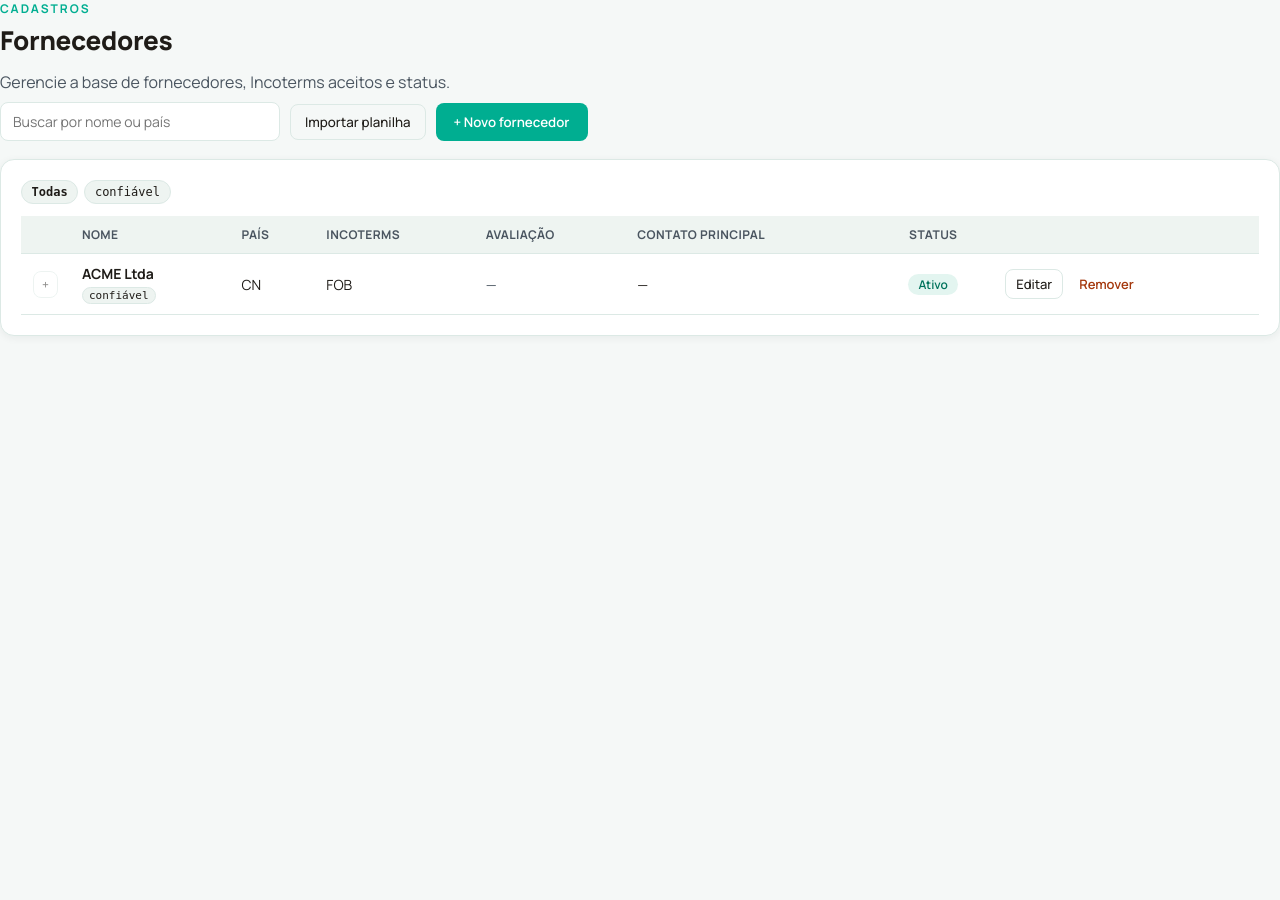
Test: Fornecedores › 13. familias — "Editar" pré-marca os chips vinculados e "Novo fornecedor" abre sem nenhum marcado
The width and height of the screenshot is (1280, 900).
Expected: the text "ACME Ltda" is shown, [82, 264, 154, 283]
Click the button "Editar": (1034,284) [1005, 269, 1063, 299]
(page scrolled)
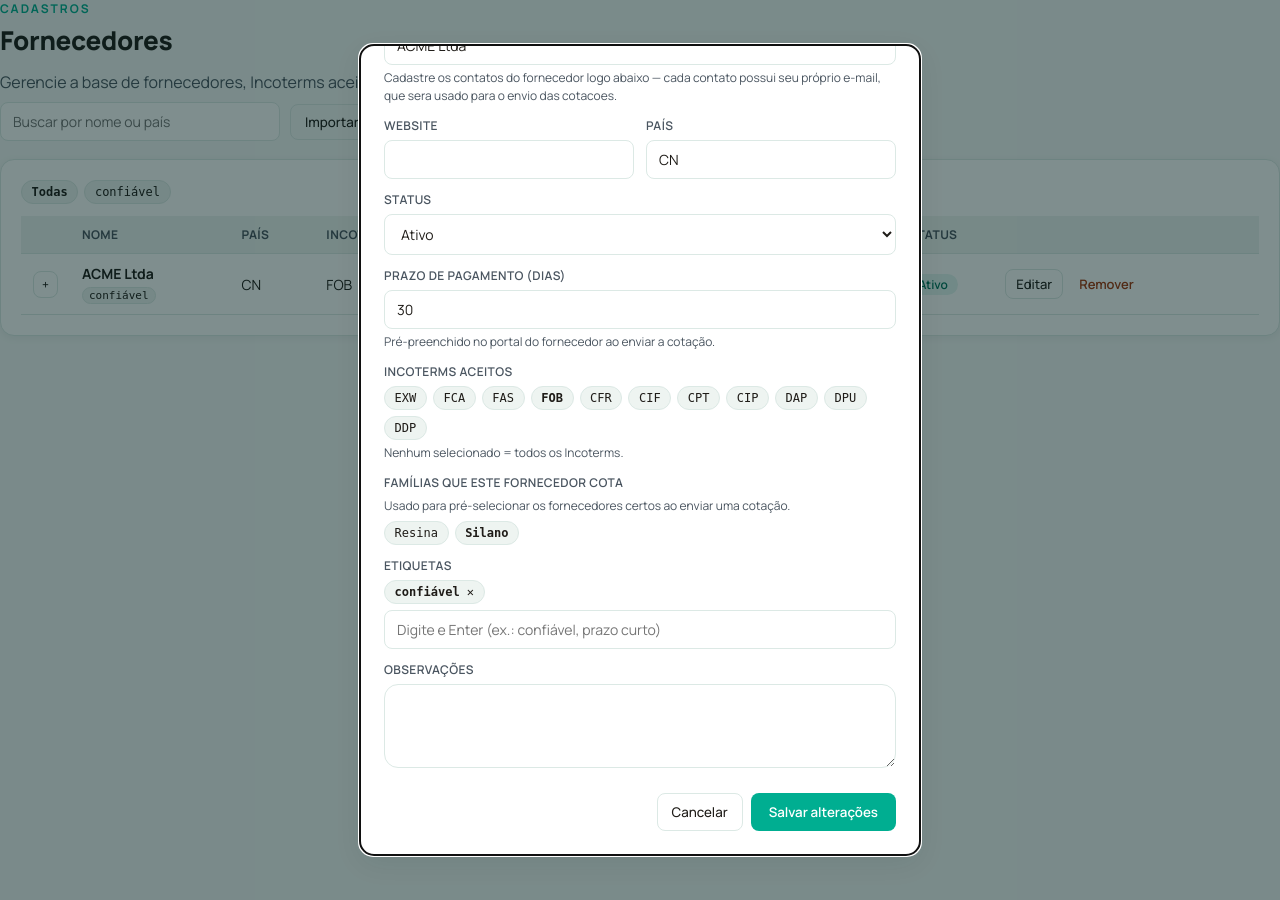
Click the button "Cancelar": (700,812) [656, 793, 743, 831]
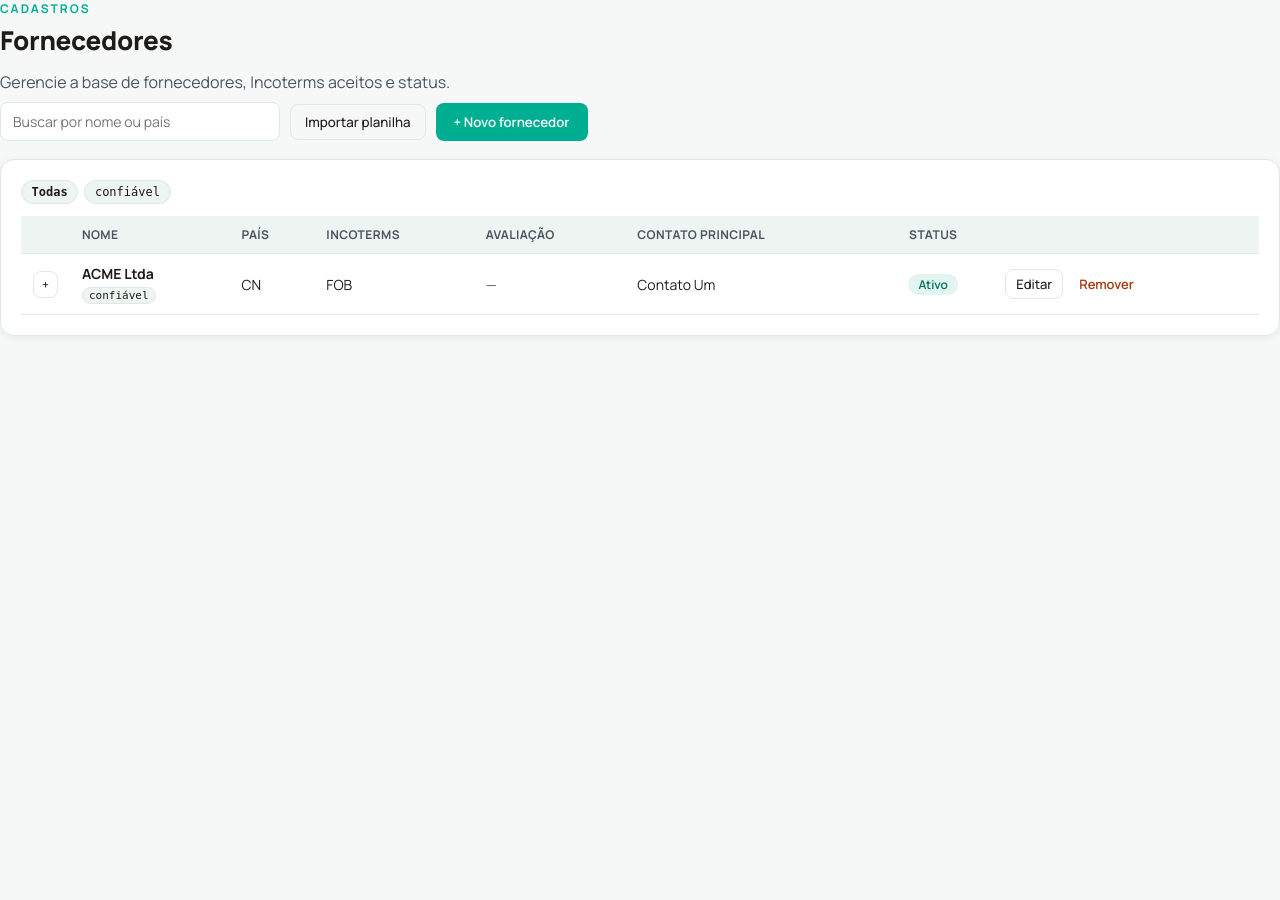
Click the button "+ Novo fornecedor": (512,122) [436, 102, 588, 140]
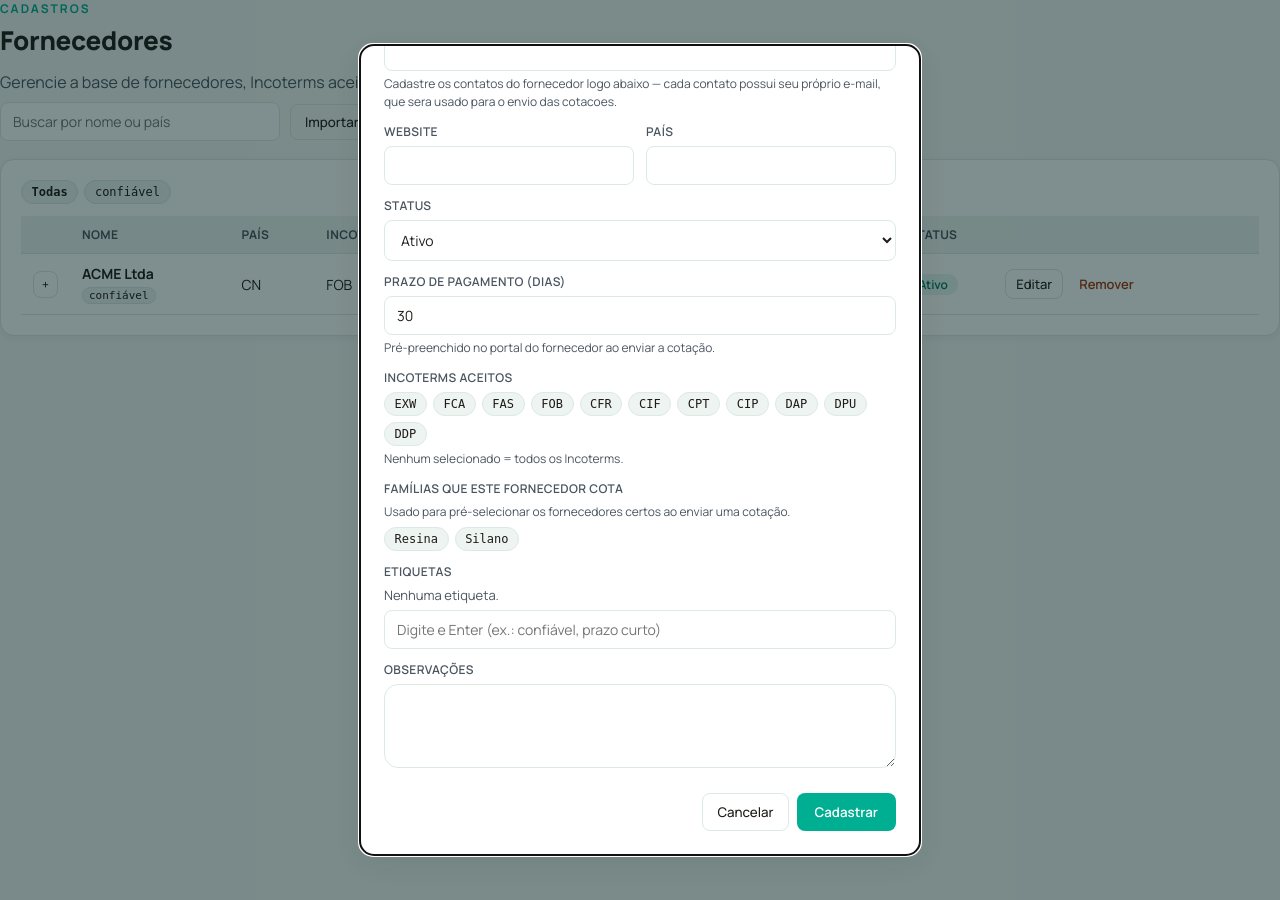
Expected: the button "Silano" is shown, [454, 527, 519, 551]
